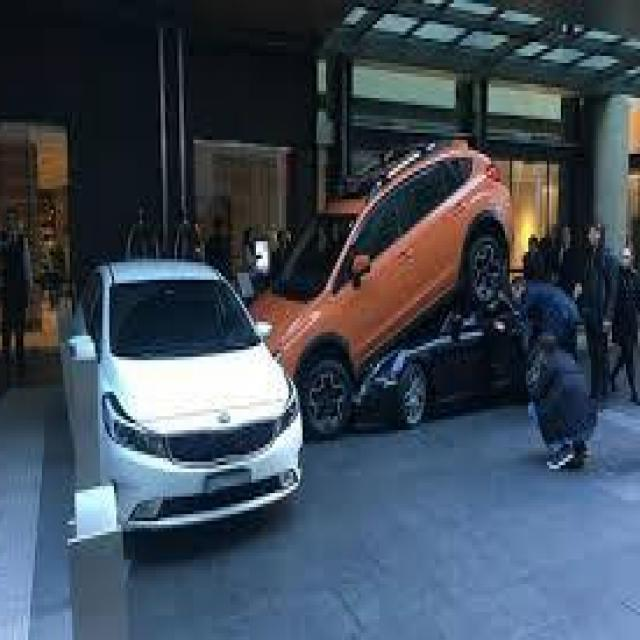multiple_accident: (161, 164, 586, 421)
